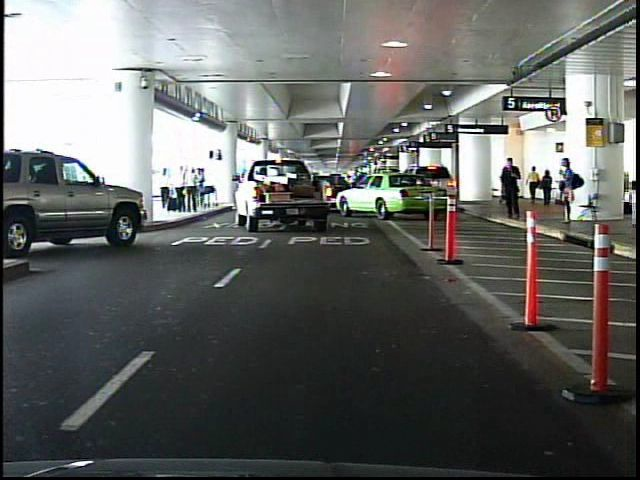person: (552, 156, 579, 227), (498, 155, 522, 221), (541, 170, 555, 208), (528, 166, 539, 205)
